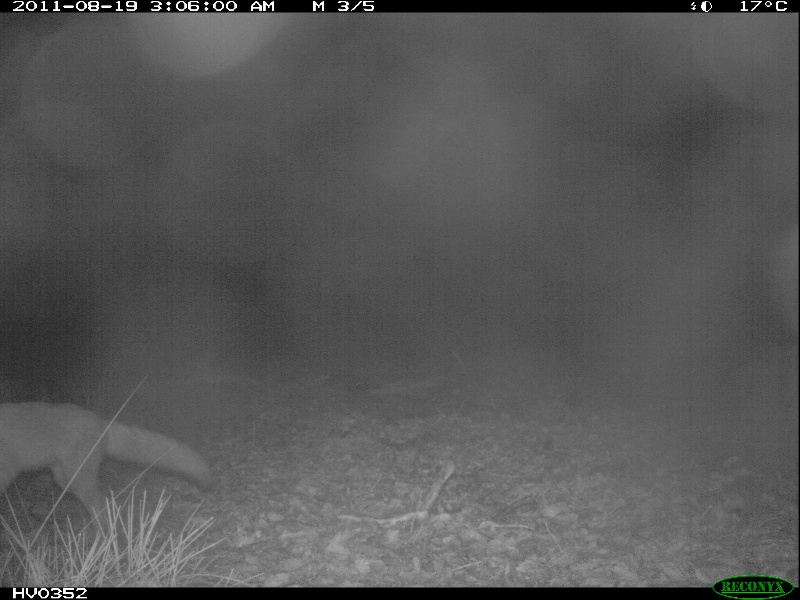fox: (1, 395, 214, 531)
